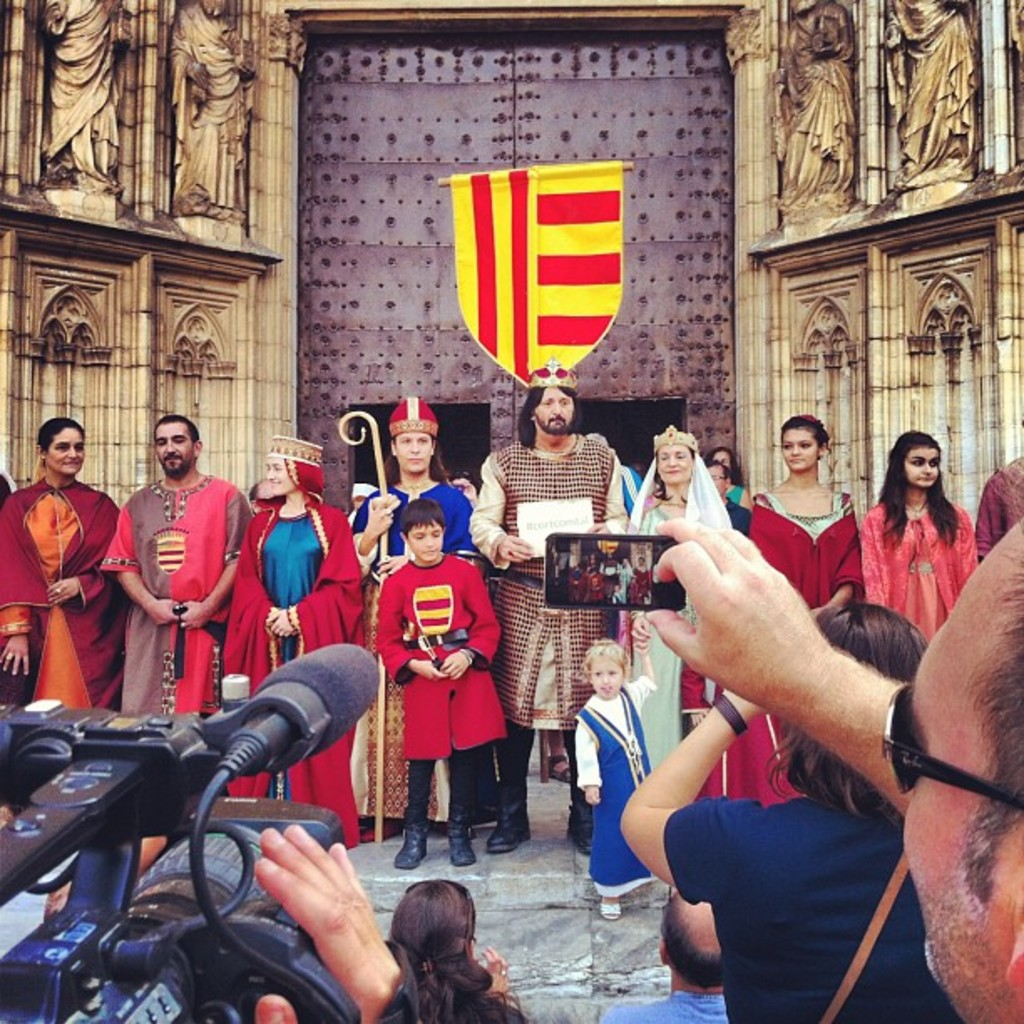Human-face: (152, 420, 194, 472), (45, 430, 85, 479), (392, 432, 435, 474), (589, 658, 626, 704), (785, 428, 815, 474), (407, 530, 443, 566), (904, 450, 940, 485), (539, 393, 574, 428), (659, 450, 696, 482), (268, 457, 291, 497)
